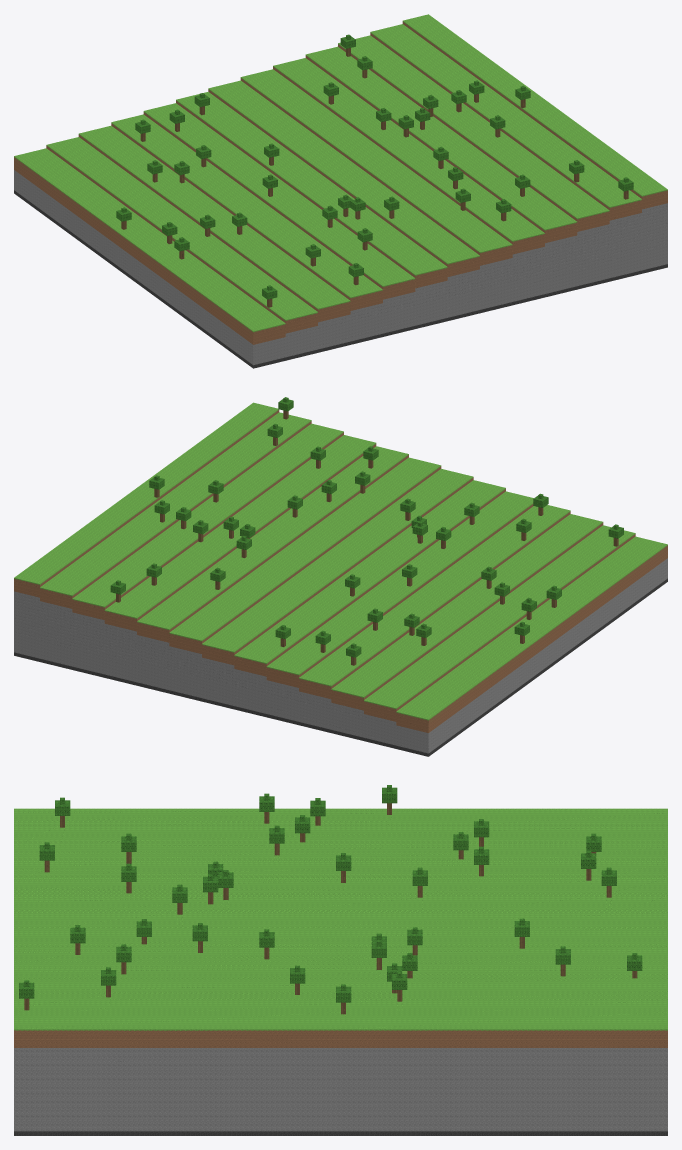
The model's file is etape6.glb.
3 renders of one model, top to bottom at view 1: azimuth 30°, elevation 25°; view 2: azimuth 150°, elevation 25°; view 3: azimuth 270°, elevation 25°, orthographic. The views are drawn at different scales.
Parts seen in each view (by area): view 1: world; view 2: world; view 3: world.
Part boxes in pixels (left/top/right/bottom): world: left=14, top=14, right=667, bottom=368; world: left=14, top=397, right=667, bottom=756; world: left=14, top=785, right=667, bottom=1135.
Size of the model in its own units: 128 by 29 by 128.
7 materials, 7 textured.
